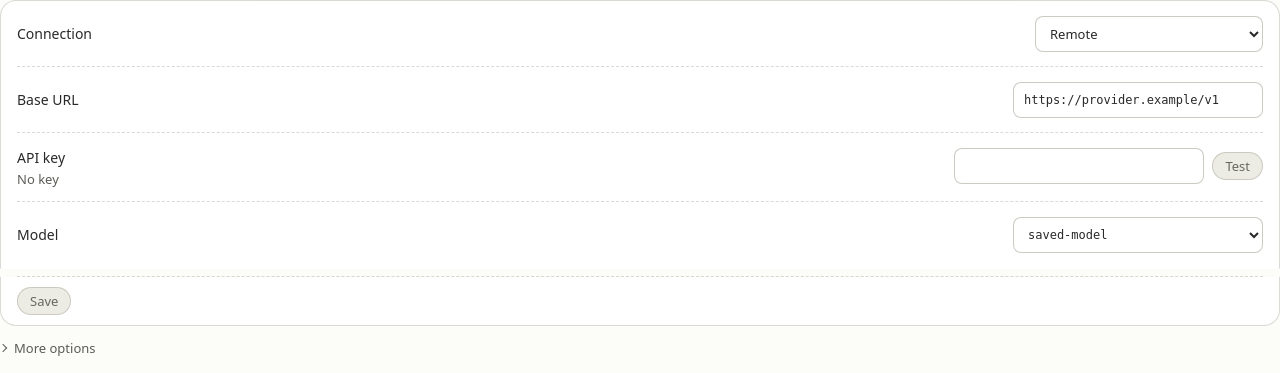
asks for a key on a remote connection that has none
Expected: the button "Test" is disabled, [1212, 152, 1263, 180]
Step 1. Type "typed-key" into the password field named "API key" → (1079, 166), box [954, 148, 1204, 184]
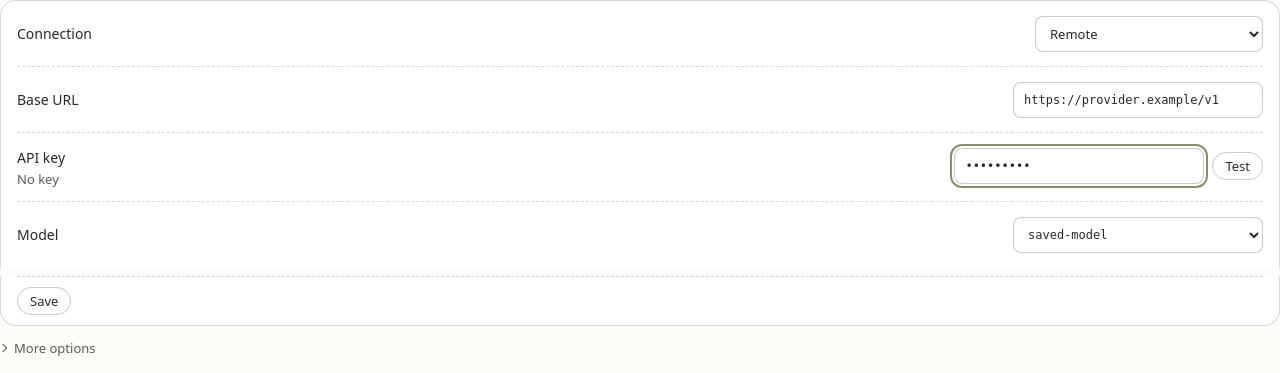
Expected: the button "Test" is enabled, [1212, 152, 1263, 180]
